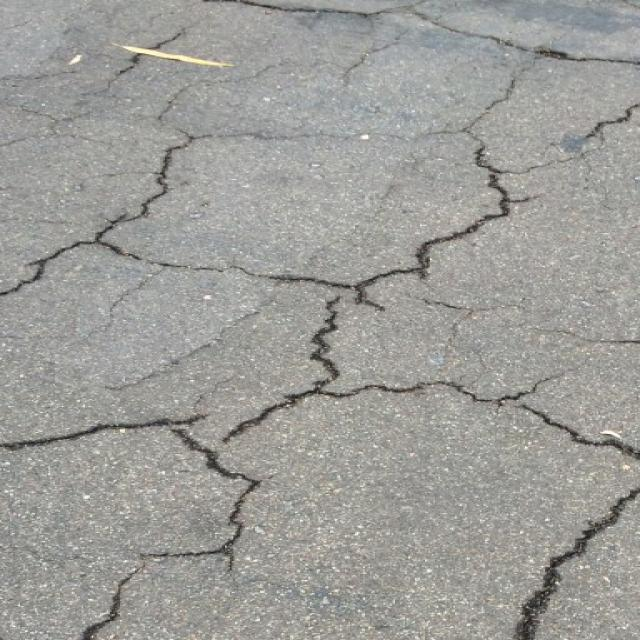crack: (424, 69, 638, 243), (309, 356, 637, 460), (4, 132, 202, 298), (201, 0, 634, 66), (506, 490, 638, 635), (211, 383, 320, 546), (201, 244, 449, 310), (80, 548, 246, 636), (8, 418, 218, 460), (90, 30, 185, 93), (304, 296, 350, 350), (203, 132, 426, 142)
